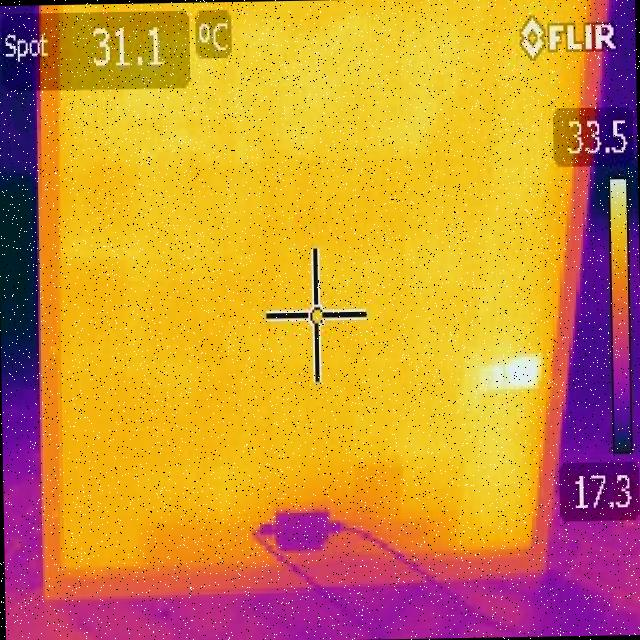Hotspot: (465, 340, 547, 404)
